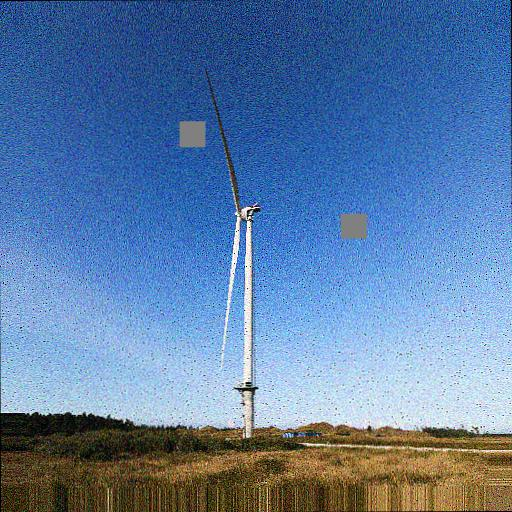wind turbine: (203, 67, 262, 437)
